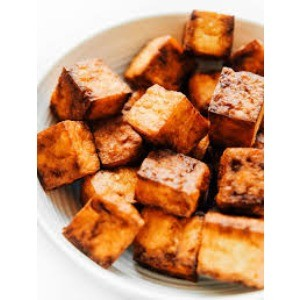tofu_brain food: (61, 58, 253, 226)
